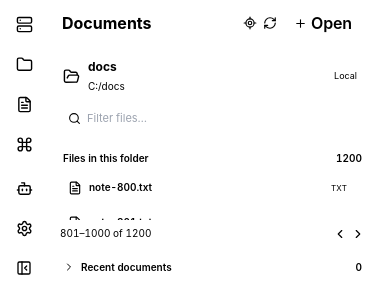
Test: Sidebar document workspace › pages a large folder while filtering all files and revealing the current file beyond page one
The width and height of the screenshot is (382, 292).
Expected: the message reads "801–1000 of 1200", [60,227,151,239]
Click the button named "Next file page" at (358, 234), box [351,226,365,240]
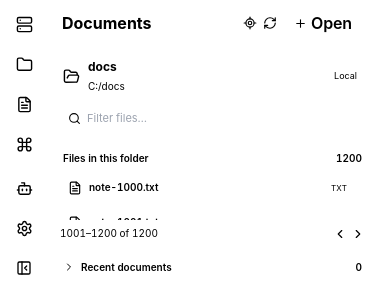
Result: the message reads "1001–1200 of 1200" at [60,227,158,239]
Type "note-1.txt" into the field labelled "Filter files…" at (222, 118), box [87,110,357,126]
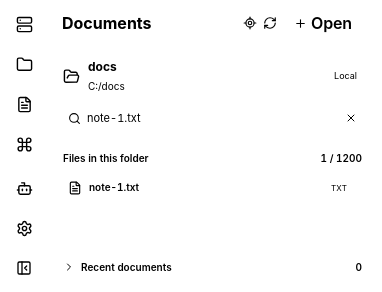
Result: the button "note-1.txt TXT" is shown at [60,172,355,204]
Click the button named "Reveal current document" at (250, 23), box [243,16,257,30]
(page scrolled)
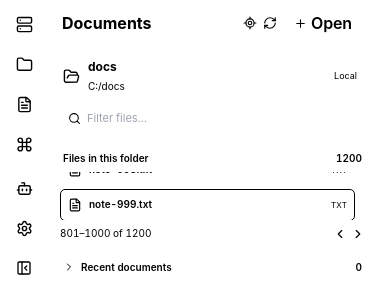
Result: the button "note-999.txt TXT" is shown at [60,188,355,220]
